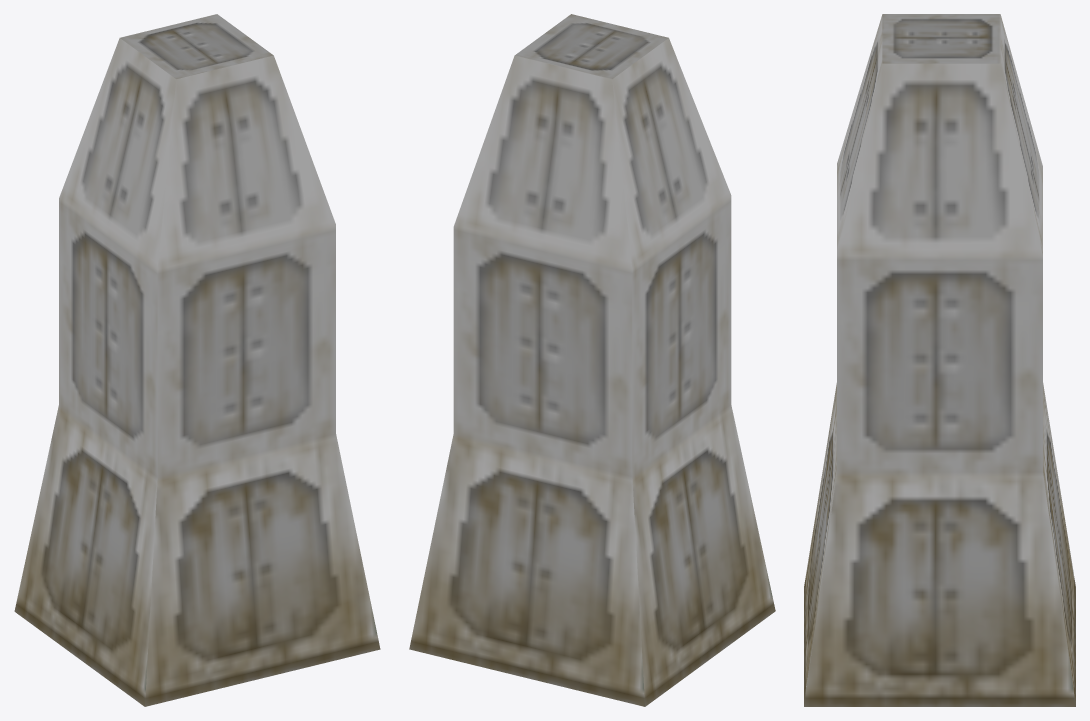
The model's file is l_heavypost.glb.
The picture shows the model from 3 angles, left to right: view 1: azimuth 30°, elevation 25°; view 2: azimuth 150°, elevation 25°; view 3: azimuth 270°, elevation 25°; orthographic projection. The views are drawn at different scales.
Visible parts, largest first — view 1: L_HeavyWall; view 2: L_HeavyWall; view 3: L_HeavyWall.
Part boxes in pixels (x1,y1,x2,y2): L_HeavyWall: (14,14,380,706); L_HeavyWall: (409,14,775,706); L_HeavyWall: (804,14,1075,706).
Bounding box in the file's own units: 7.52 × 17.81 × 7.21.
1 material, 1 textured.
